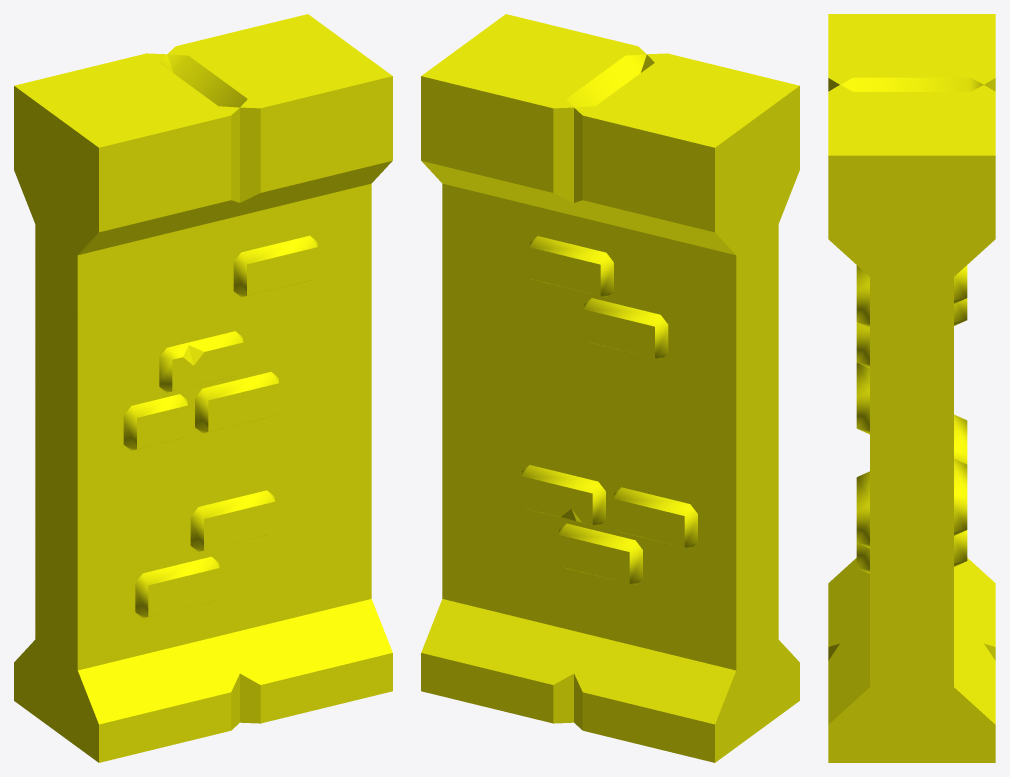
Rendered from kaykit-wall-half.glb.
3 views of the same model, side by side, from view 1: azimuth 30°, elevation 25°; view 2: azimuth 150°, elevation 25°; view 3: azimuth 270°, elevation 25° (orthographic).
Visible parts, largest first — view 1: wall_half; view 2: wall_half; view 3: wall_half.
Part boxes in pixels (x1,y1,x2,y2): wall_half: (14, 14, 392, 762); wall_half: (421, 14, 799, 762); wall_half: (828, 14, 995, 762).
Size of the model in its own units: 2 by 4 by 1.
